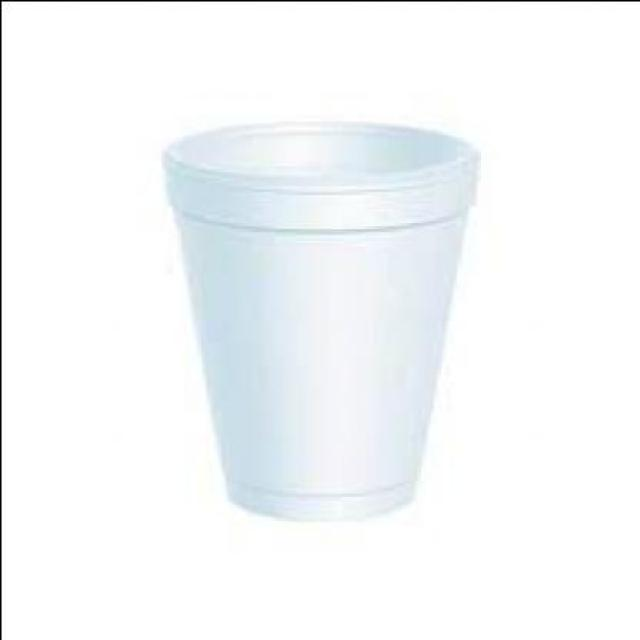PAPER: (159, 119, 475, 510)
